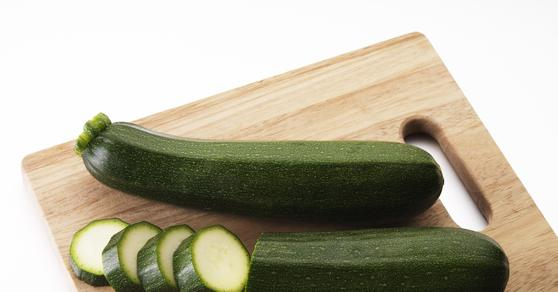zucchini: (77, 110, 447, 219)
